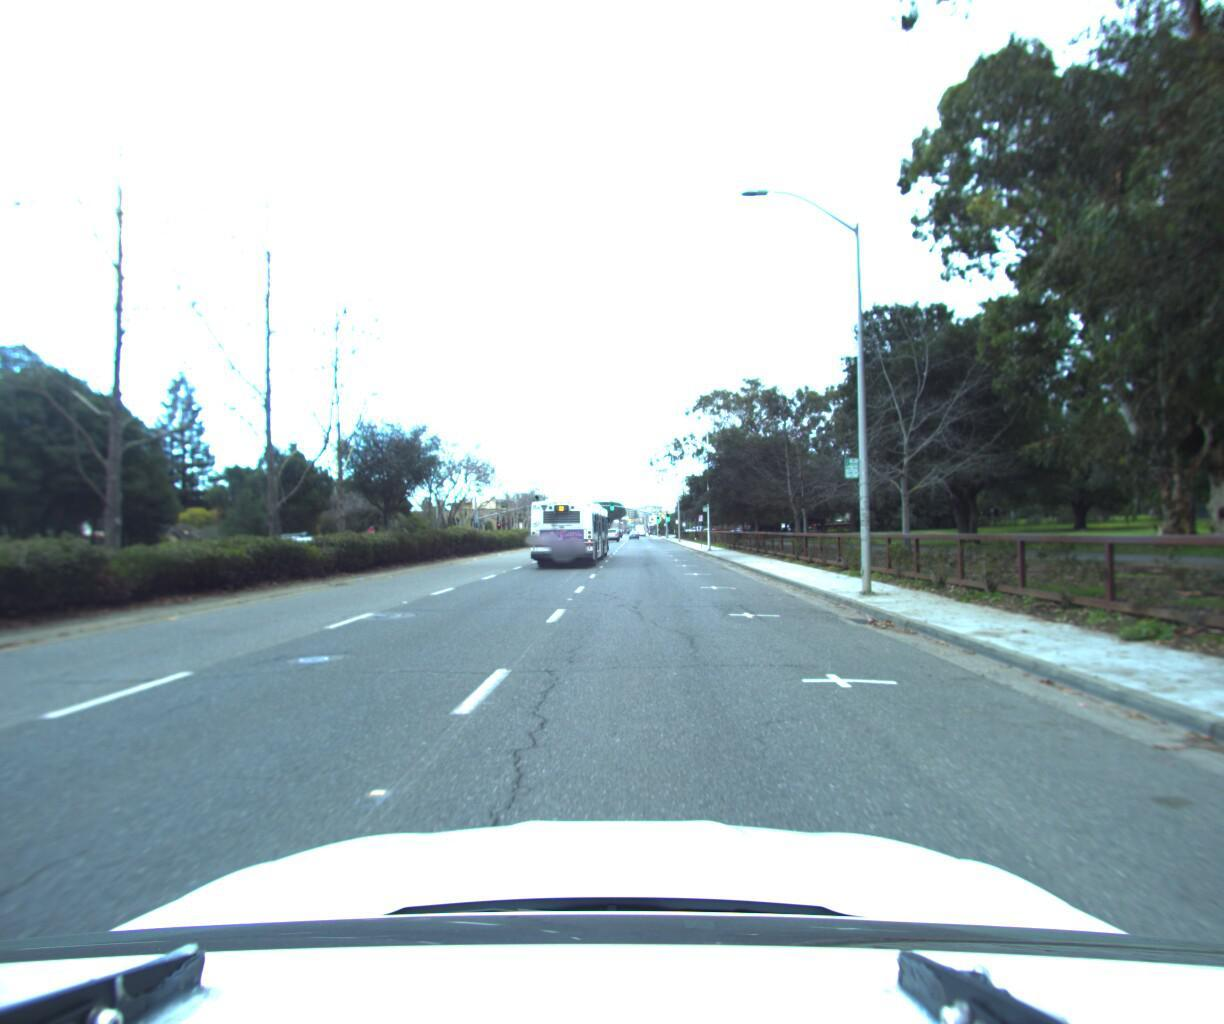bus: (529, 487, 615, 567)
